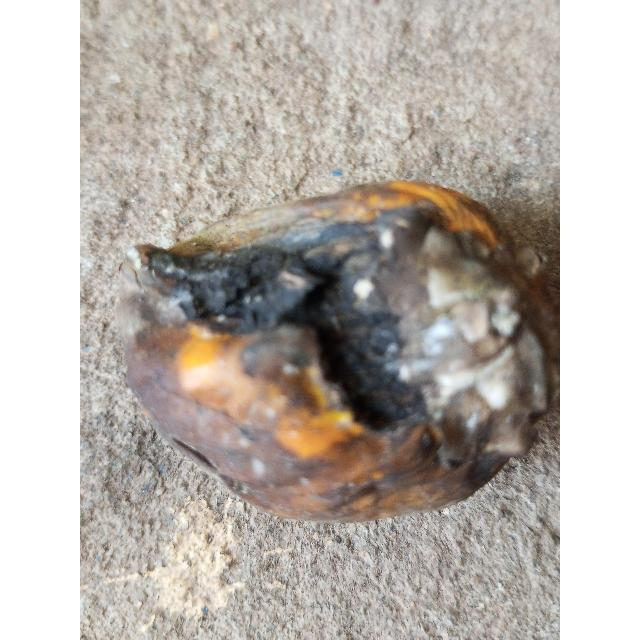damaged: (122, 181, 560, 525)
